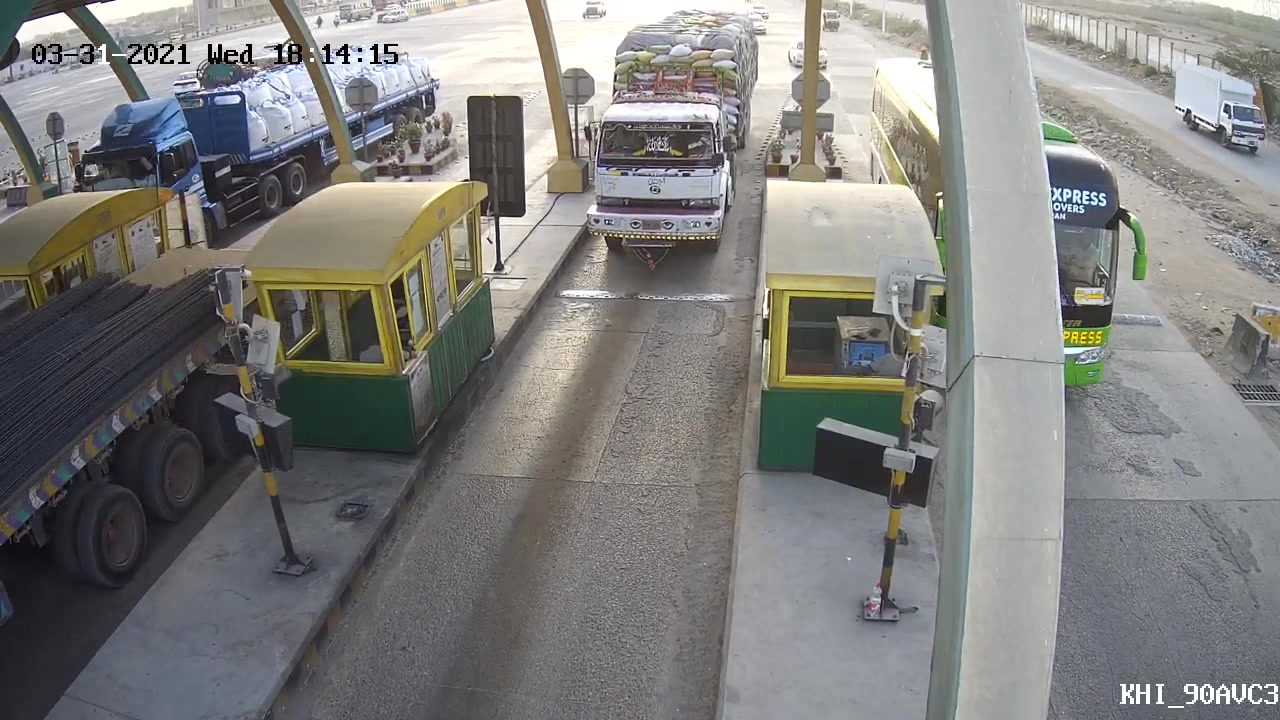F6: (572, 66, 753, 269)
